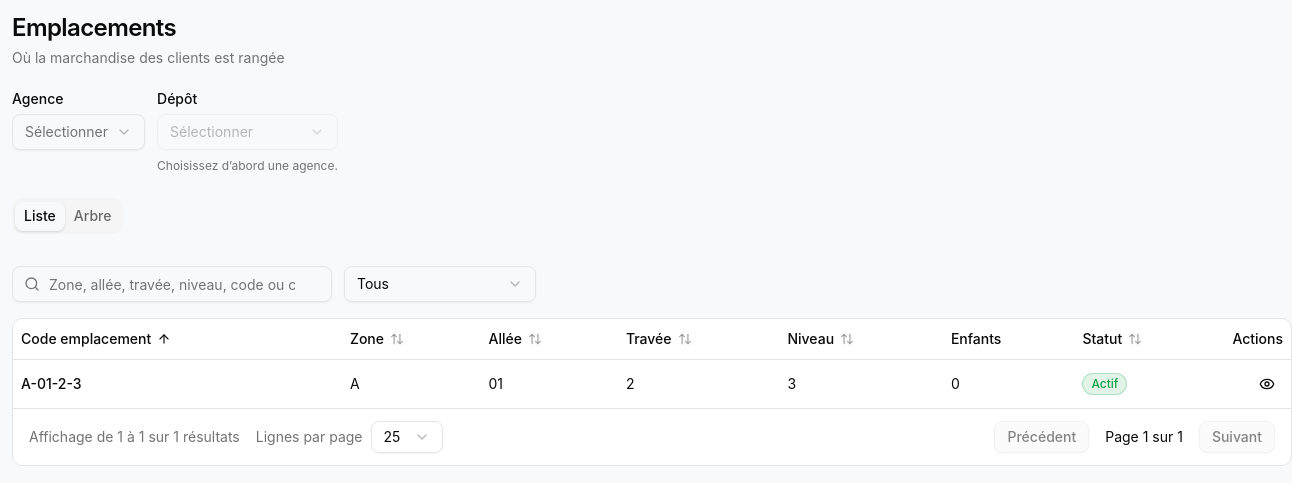
Test: emplacements de stock › exige un dépôt avant de montrer l’arbre
The width and height of the screenshot is (1292, 483).
Expected: the text "A-01-2-3" is shown, [21,374,82,392]
Click the tab "Arbre".
click(93, 216)  # box [65,202,120,230]
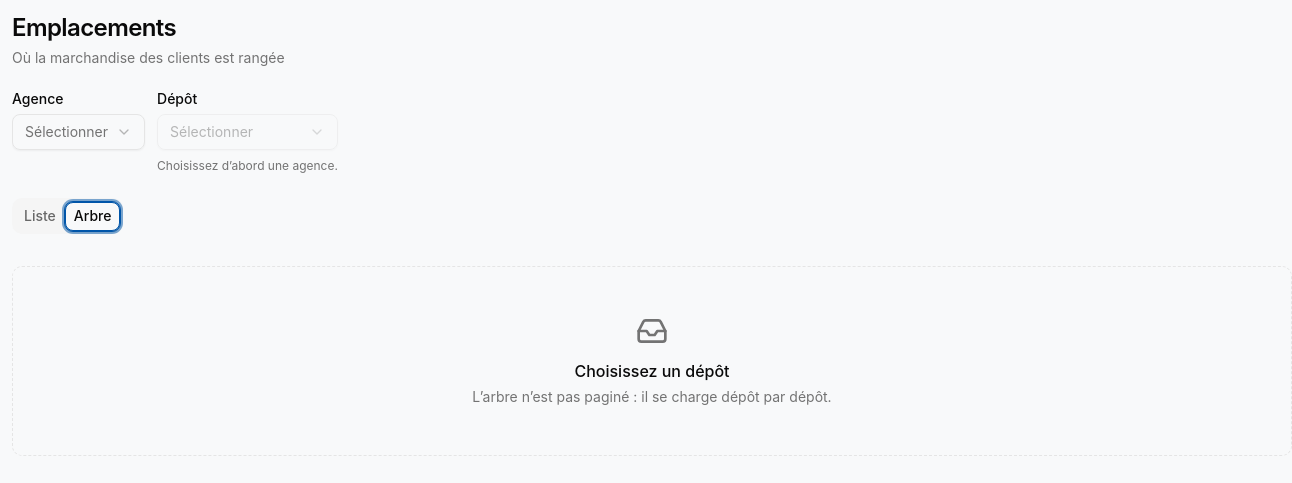
Expected: the text "Choisissez un dépôt" is shown, [574,361,730,381]
